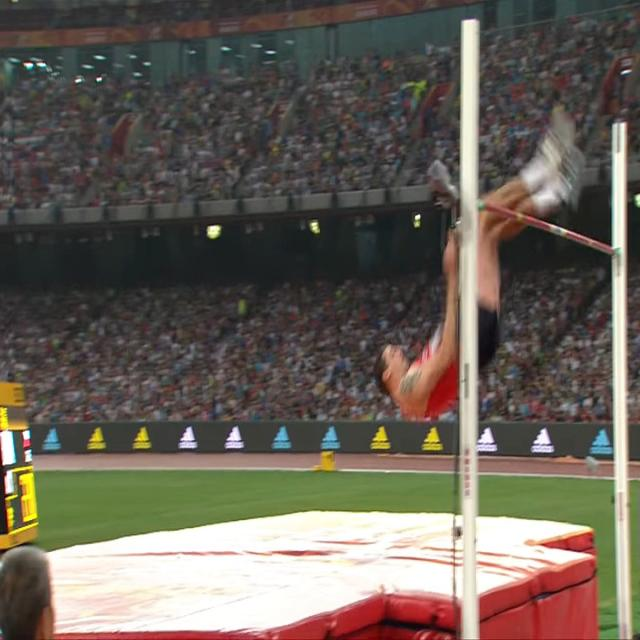land: (376, 100, 584, 420)
